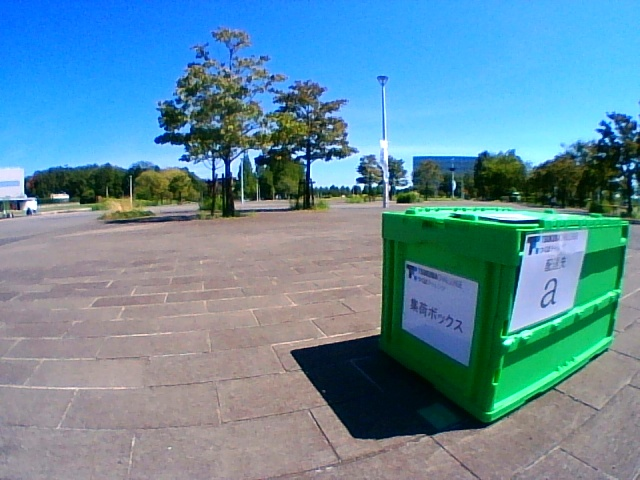green_box: (381, 206, 611, 352)
tag_a: (531, 256, 565, 310)
